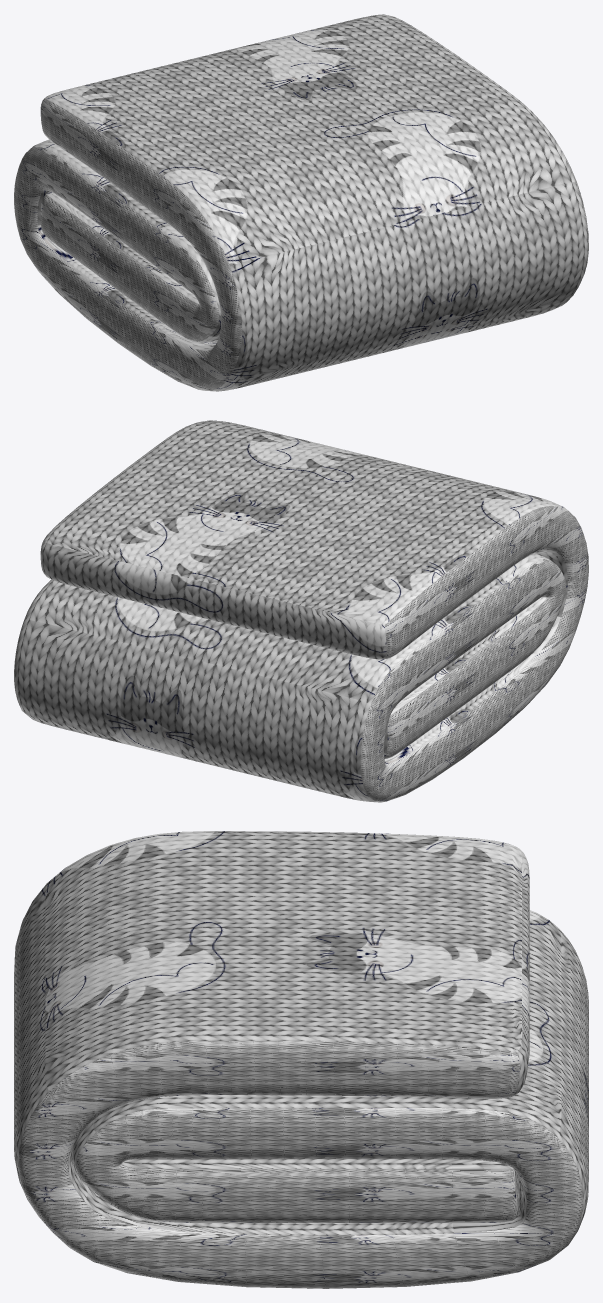
The model's file is Blanket.gltf.
3 views of the same model, one above another, from view 1: azimuth 30°, elevation 25°; view 2: azimuth 150°, elevation 25°; view 3: azimuth 270°, elevation 25° (orthographic). The views are drawn at different scales.
Parts seen in each view (by area): view 1: Plane; view 2: Plane; view 3: Plane.
Part boxes in pixels (bbox=[...]): Plane: bbox=[14, 14, 588, 391]; Plane: bbox=[14, 420, 588, 802]; Plane: bbox=[14, 831, 588, 1288].
Bounding box in the file's own units: 1.57 × 0.8771 × 1.76.
Materials: 1 (1 with a texture image).
